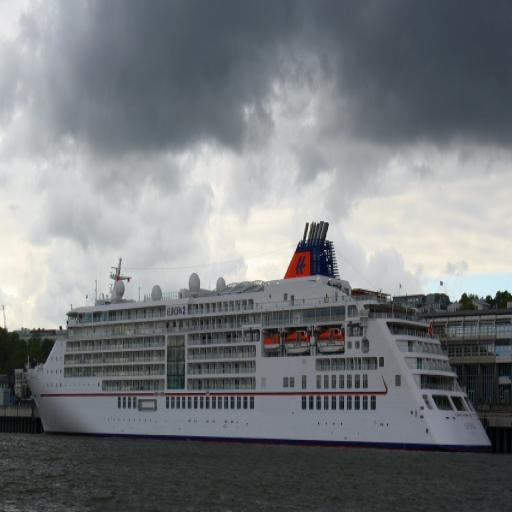cruises: (24, 214, 500, 467)
